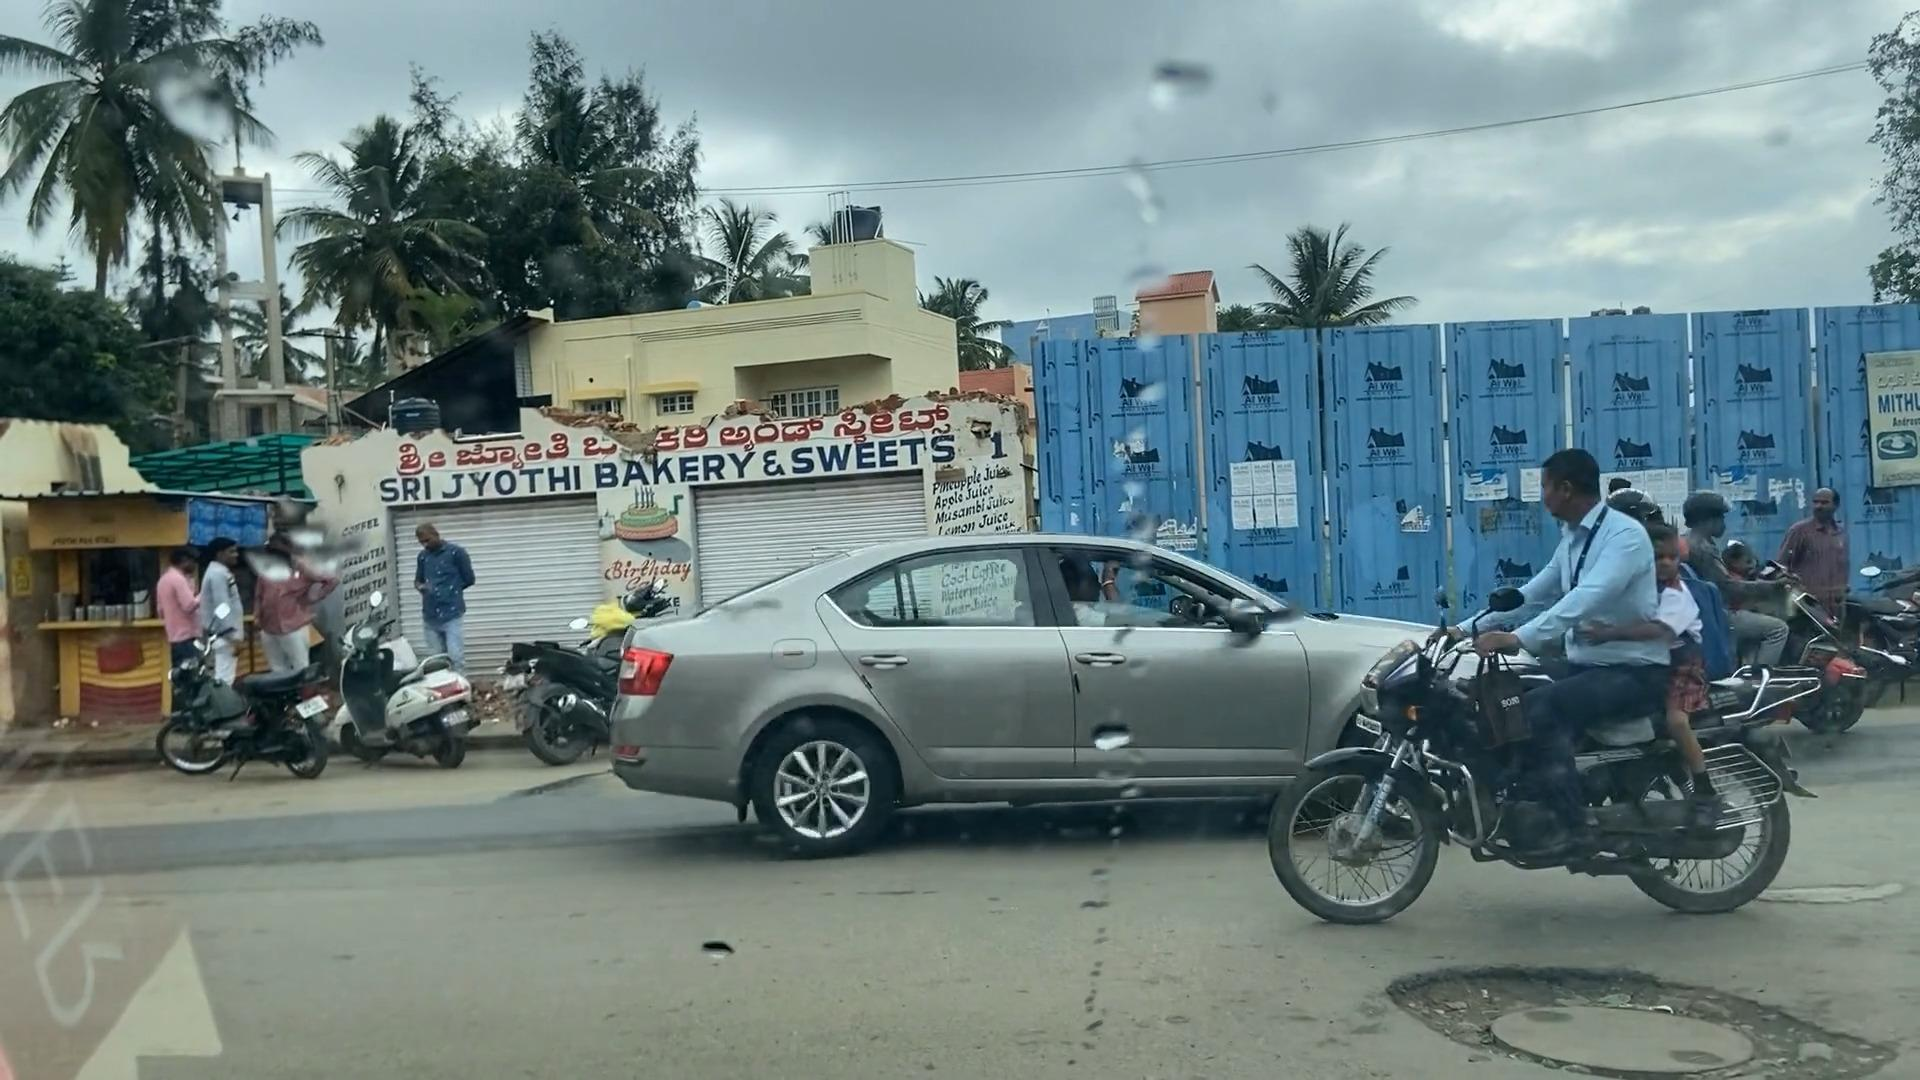LMV: (613, 526, 1365, 808), (1313, 487, 1792, 887)
RoadDamages: (1383, 960, 1894, 1080)
